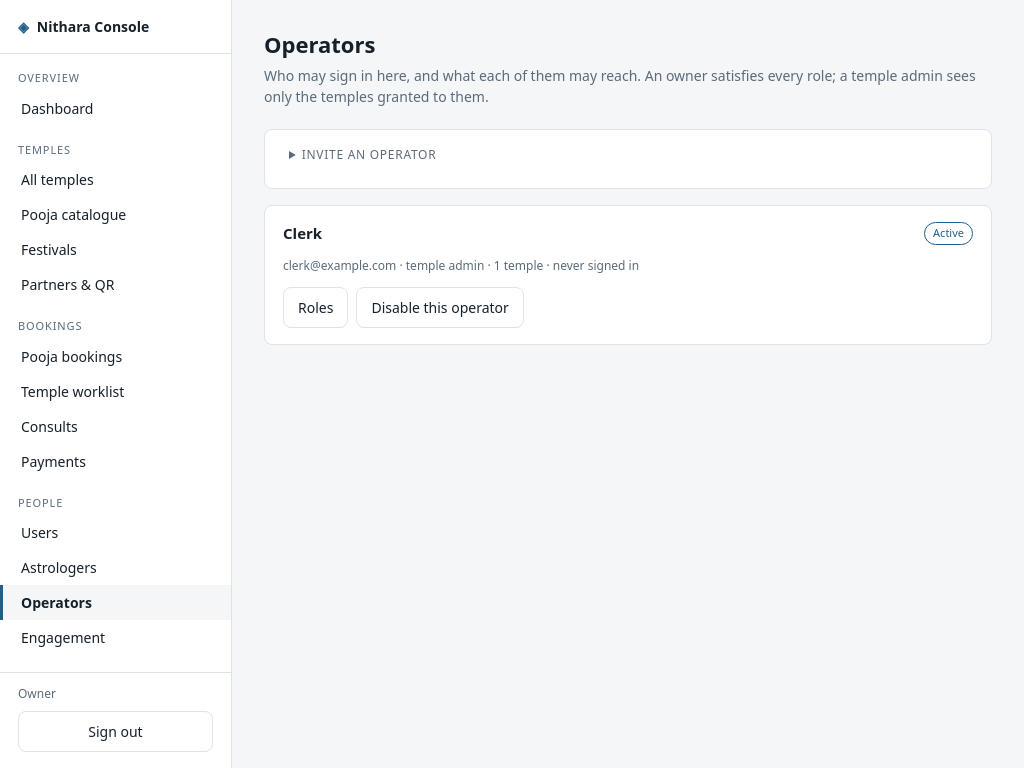
Test: operators › will not offer a grant the server would refuse
The image size is (1024, 768).
Click the button "Roles": (316, 307) top-left (283, 286), bottom-right (348, 328)
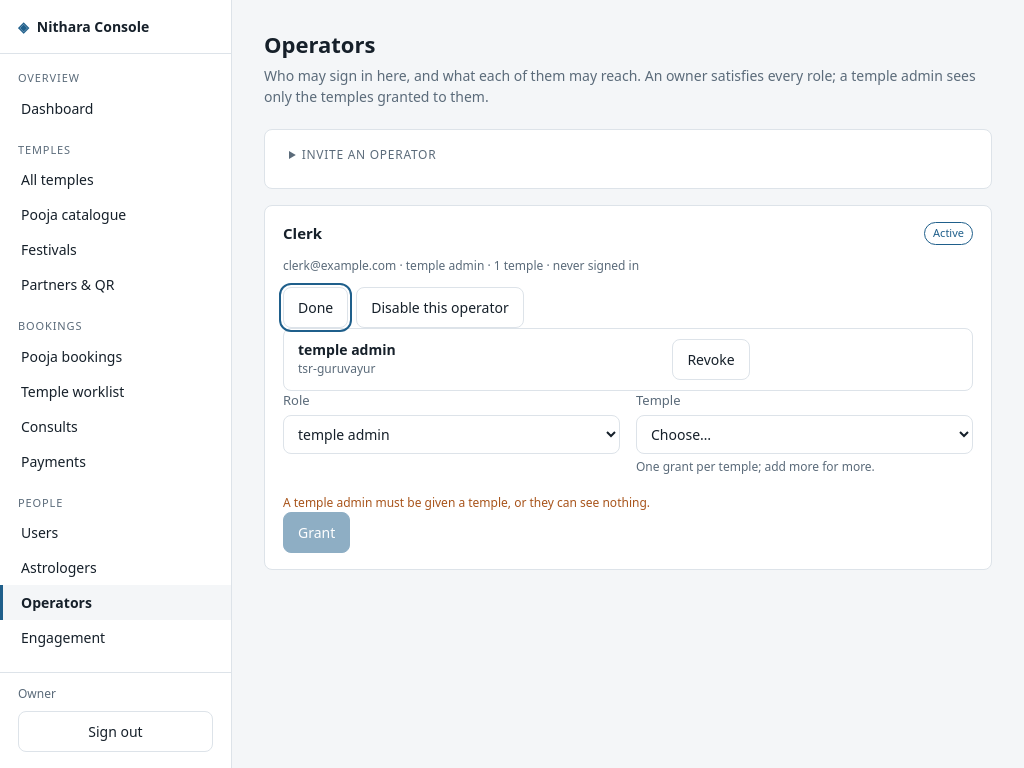
Expected: the text "must be given a temple" is shown, top-left (283, 494), bottom-right (650, 511)
Expected: the button "Grant" is disabled, top-left (283, 512), bottom-right (350, 553)
